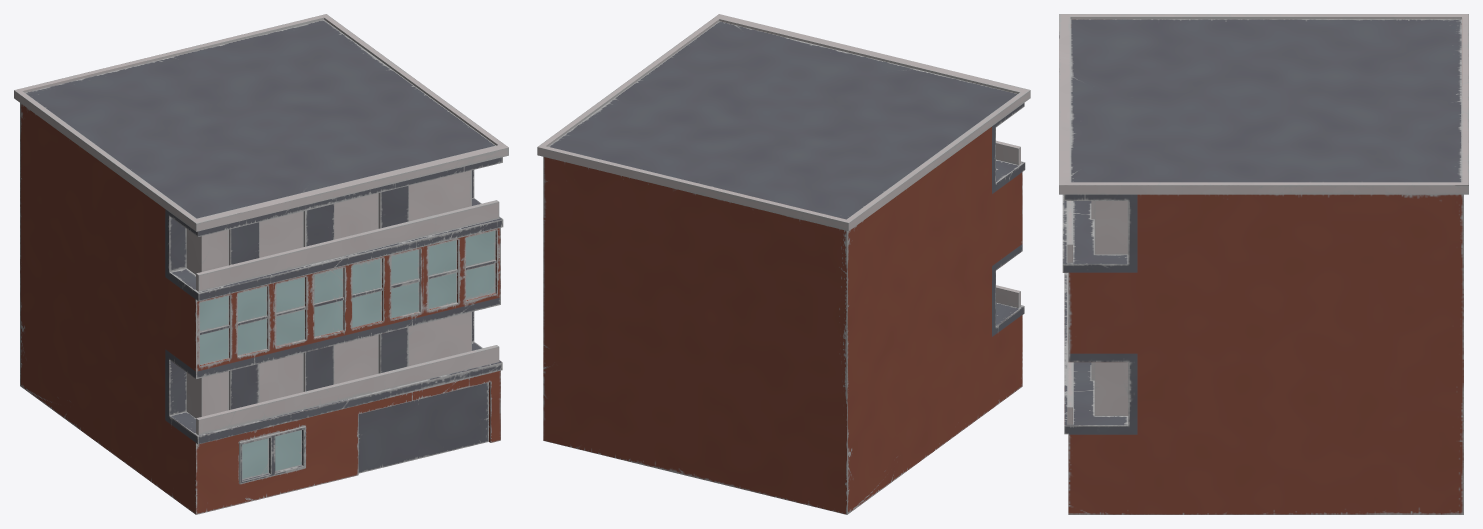
The model's file is House_2.fbx.
The picture shows the model from 3 angles, left to right: view 1: azimuth 30°, elevation 25°; view 2: azimuth 150°, elevation 25°; view 3: azimuth 270°, elevation 25°; orthographic projection. The views are drawn at different scales.
Visible parts, largest first — view 1: House 1.001; view 2: House 1.001; view 3: House 1.001.
Boxes of the visible parts, box(x1,y1,x2,y2) form: House 1.001: box(14, 14, 508, 514); House 1.001: box(537, 14, 1030, 514); House 1.001: box(1059, 14, 1468, 514).
Bounding box in the file's own units: 205 × 185 × 207.
1 material, 1 textured.
